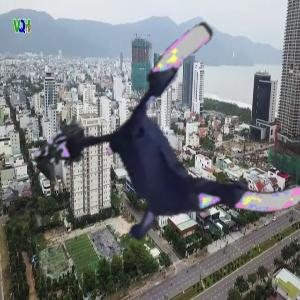drone: (75, 50, 300, 275)
